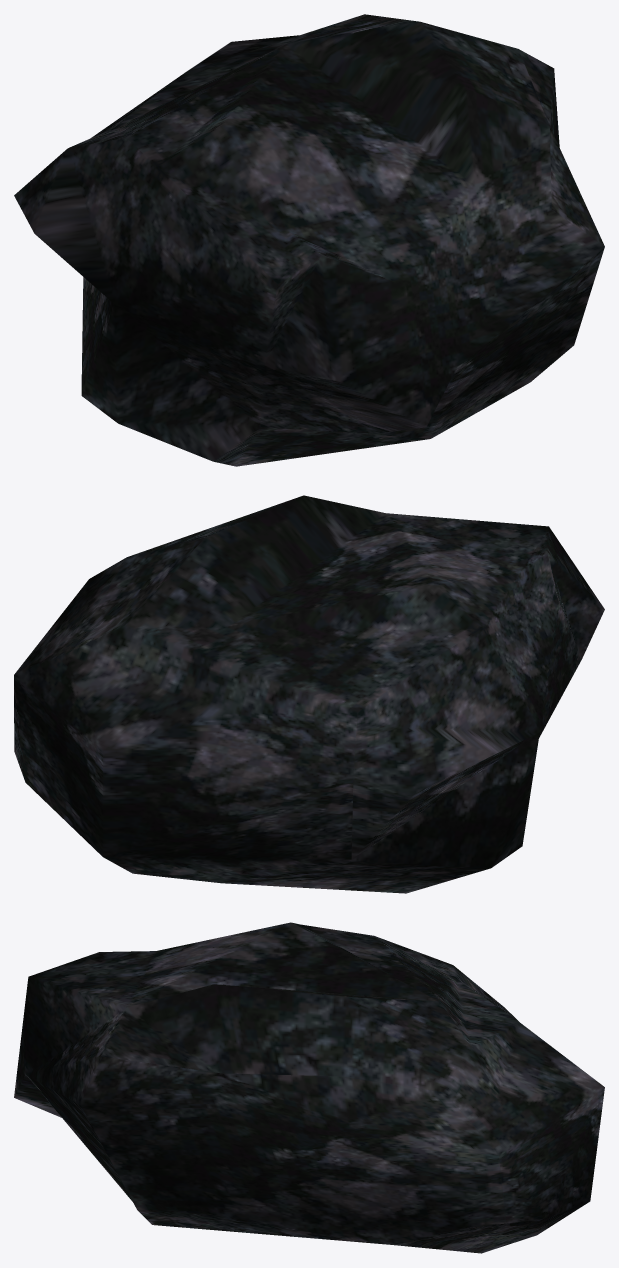
Rendered from asteroid_obsidian_small_s01_l2.fbx.
3 views of the same model, one above another, from view 1: azimuth 30°, elevation 25°; view 2: azimuth 150°, elevation 25°; view 3: azimuth 270°, elevation 25° (orthographic). The views are drawn at different scales.
Visible parts, largest first — view 1: mesh_node; view 2: mesh_node; view 3: mesh_node.
Part boxes in pixels (left/top/right/bottom): mesh_node: left=14, top=14, right=604, bottom=466; mesh_node: left=14, top=495, right=604, bottom=893; mesh_node: left=14, top=922, right=604, bottom=1253.
Bounding box in the file's own units: 27.58 × 19.43 × 32.89.
Materials: 1 (1 with a texture image).
